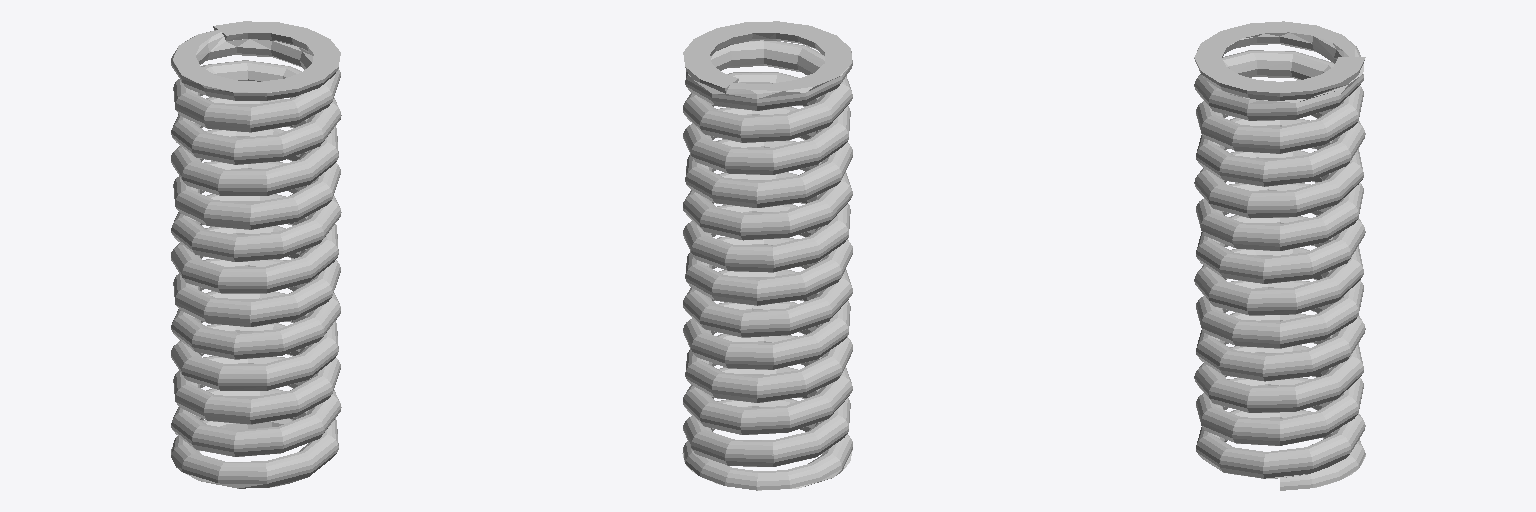
File: 79. Пружина (нагрузка).obj
3 renders of one model, left to right at view 1: azimuth 30°, elevation 25°; view 2: azimuth 150°, elevation 25°; view 3: azimuth 270°, elevation 25°, orthographic.
Parts seen in each view (by area): view 1: Твердое тело1; view 2: Твердое тело1; view 3: Твердое тело1.
Boxes of the visible parts, x1=… form: Твердое тело1: x1=171, y1=21, x2=341, y2=488; Твердое тело1: x1=682, y1=21, x2=852, y2=490; Твердое тело1: x1=1194, y1=21, x2=1365, y2=490.
Bounding box in the file's own units: 12.51 × 32 × 12.51.